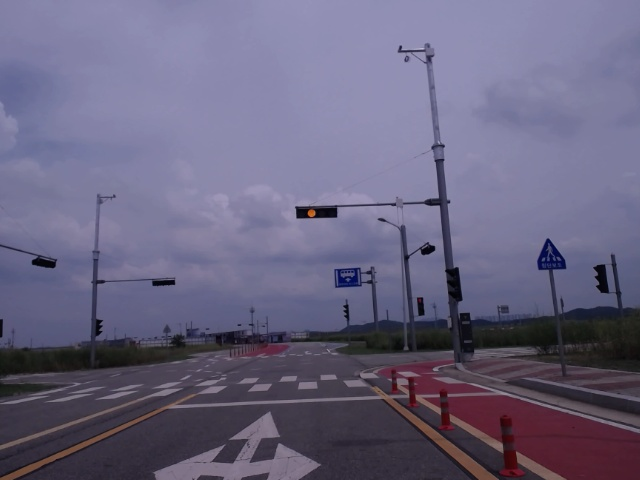orange_4: (295, 206, 339, 220)
